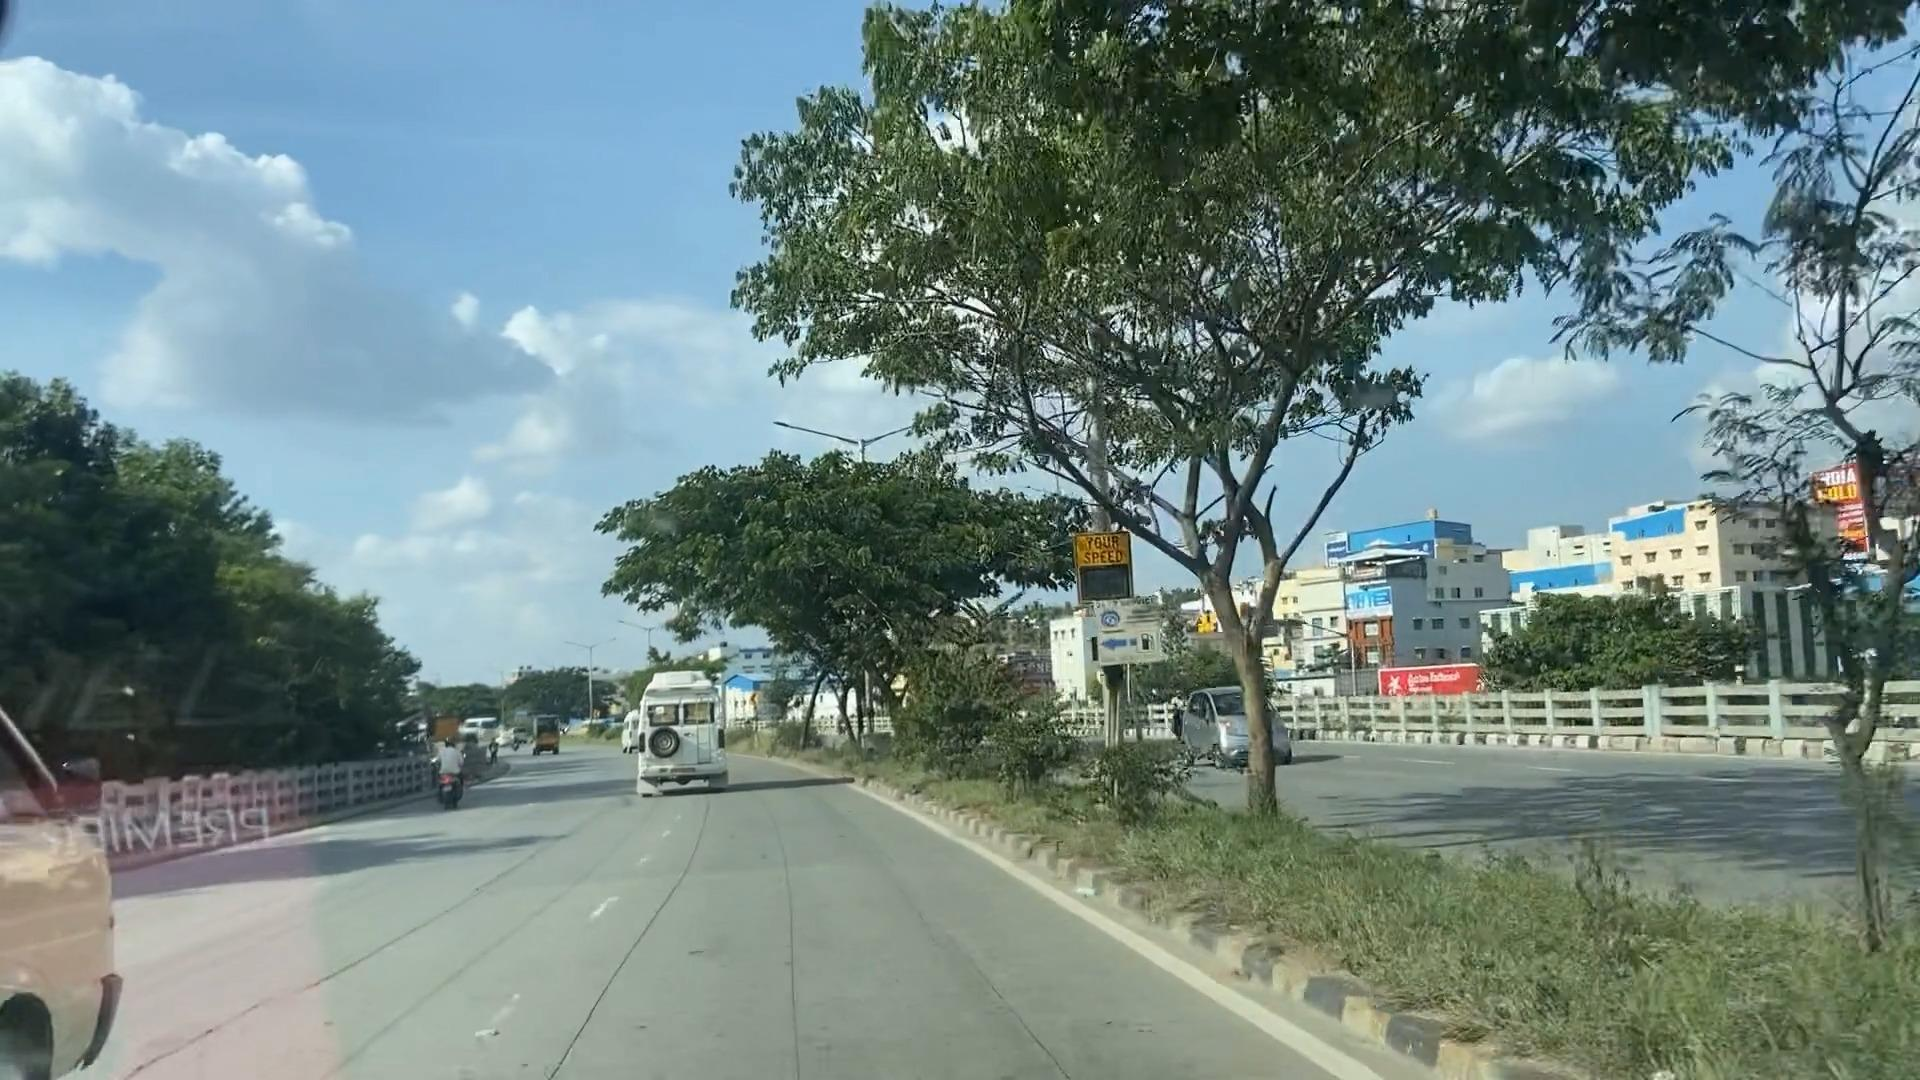HMV: (628, 678, 727, 775)
